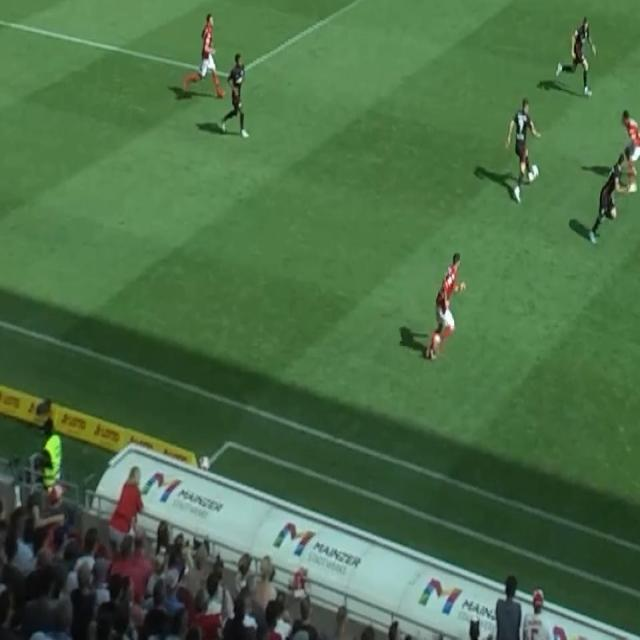ball: (530, 163, 540, 181)
